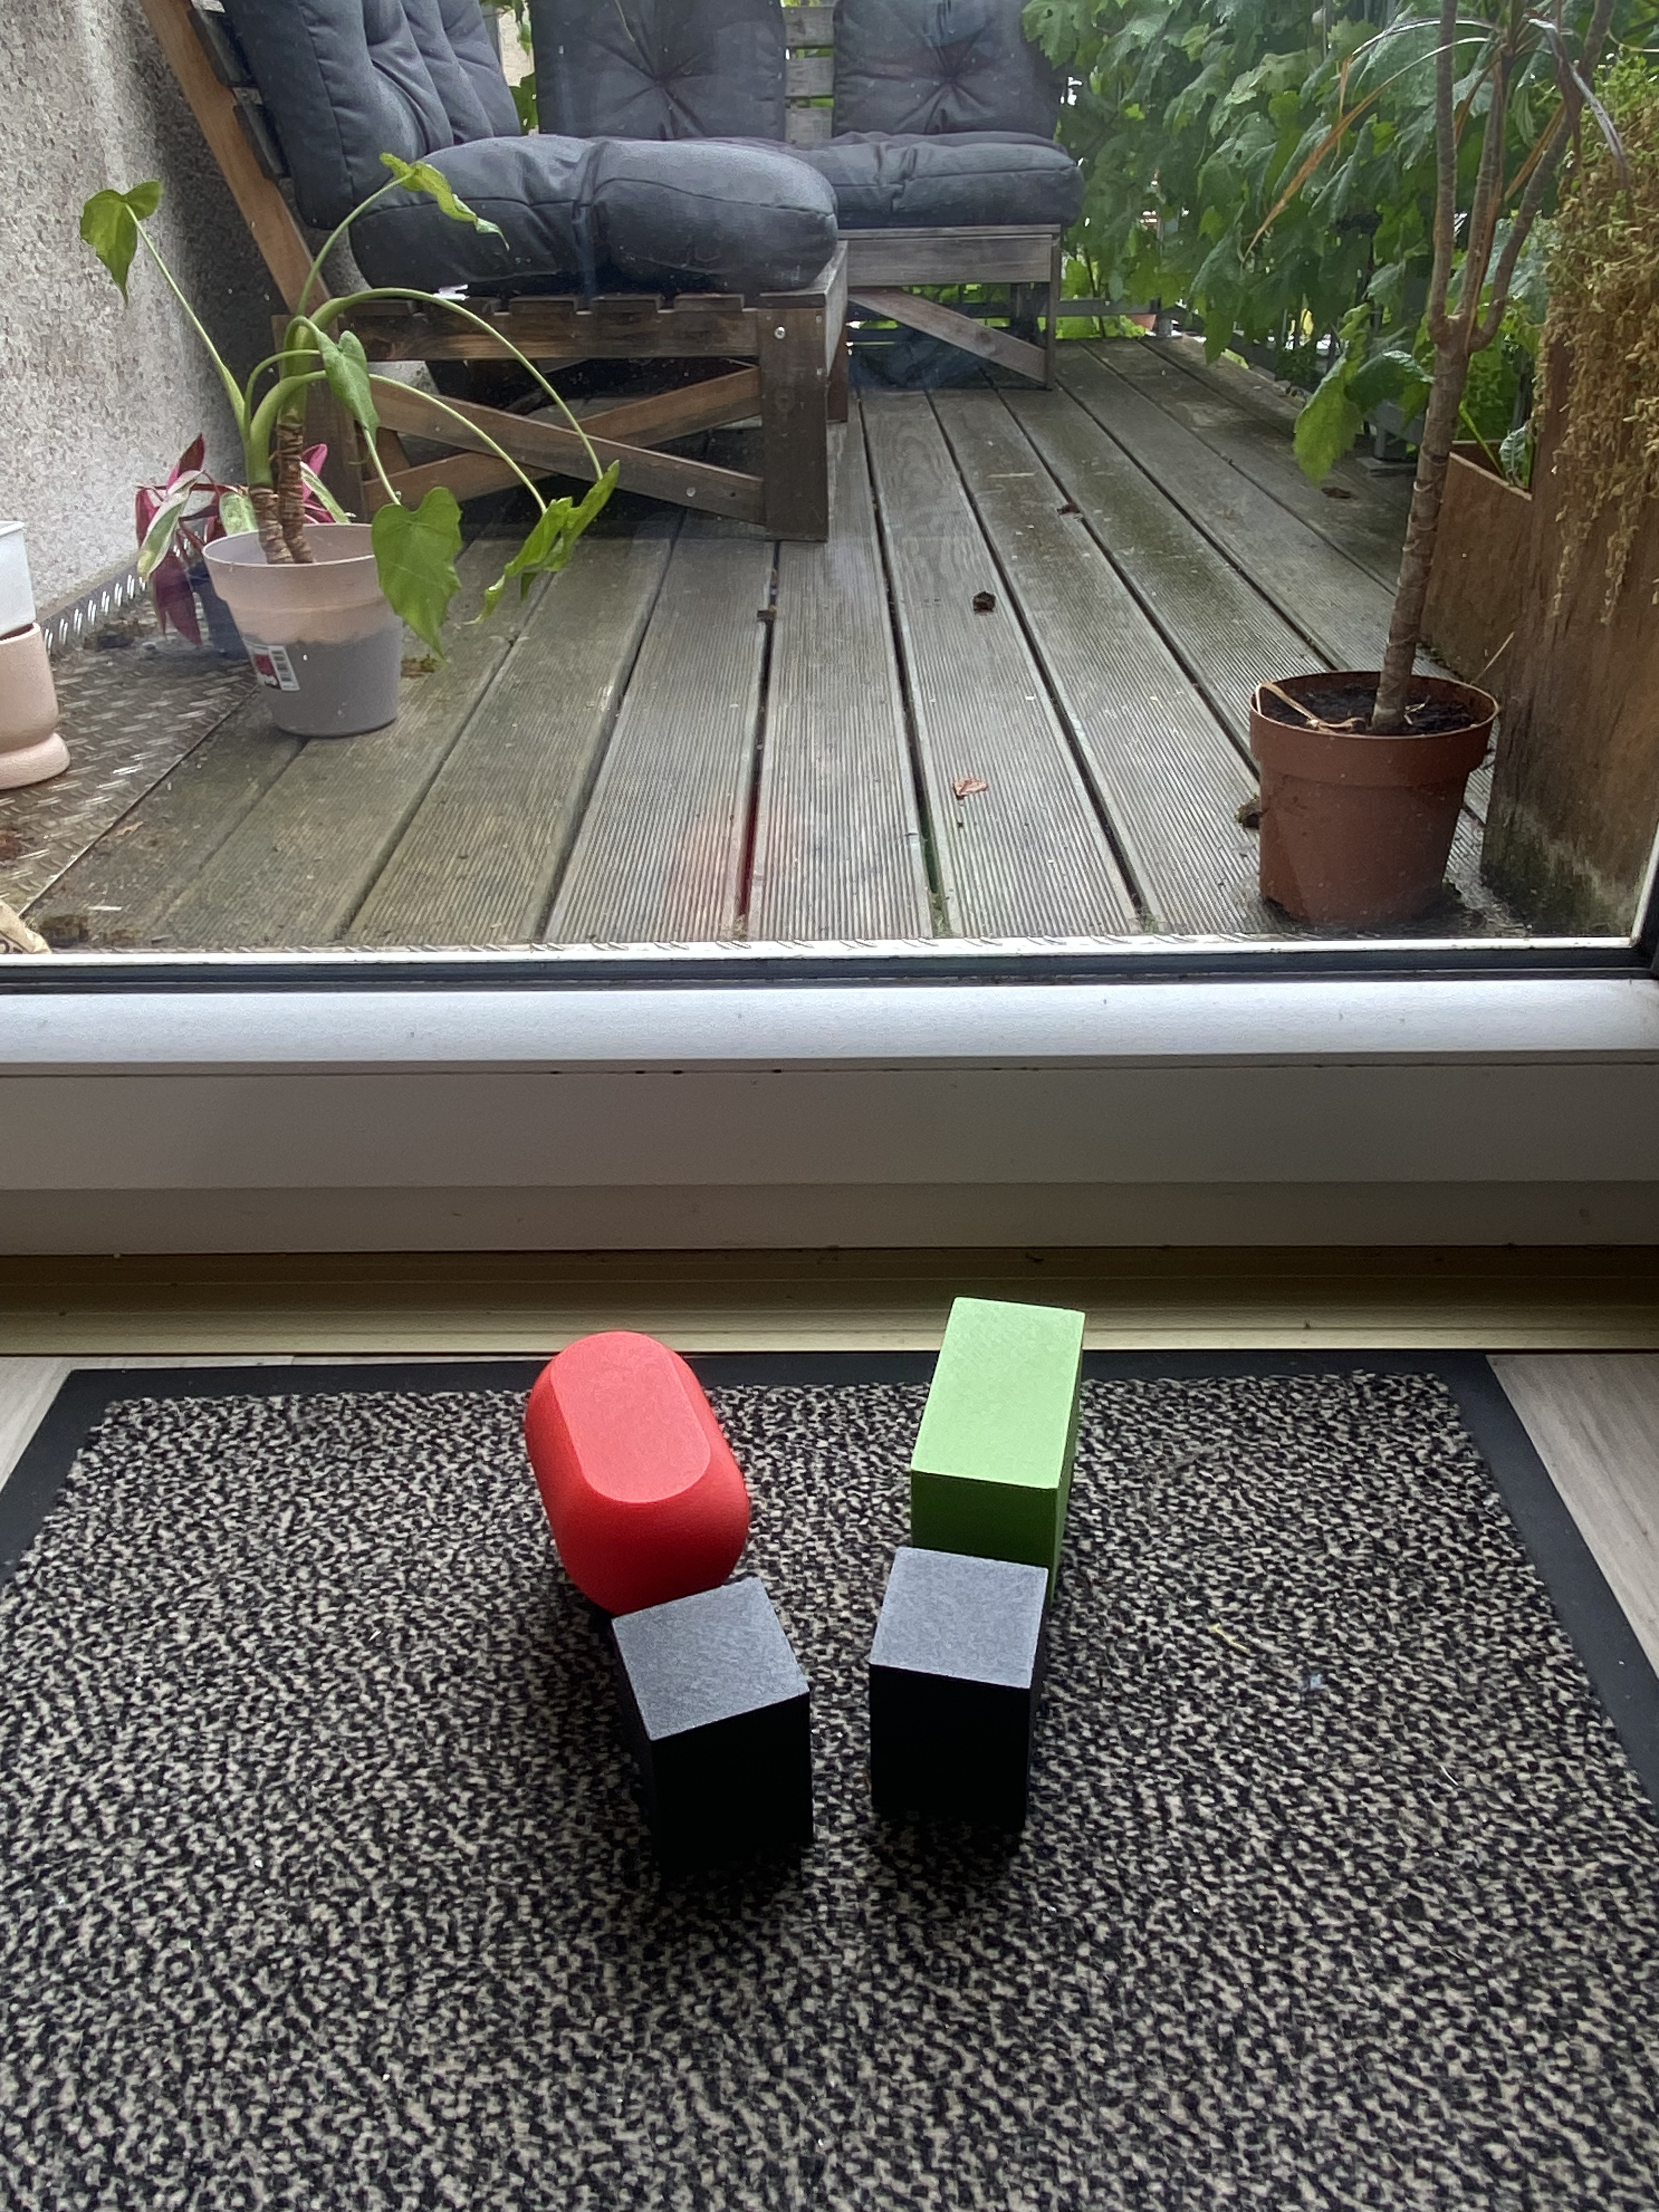green_truck: (880, 1280, 1080, 1794)
red_truck: (584, 1294, 770, 1844)
